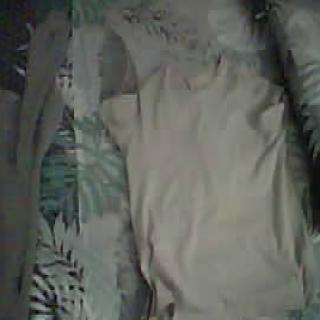Yellow Hoodie: (0, 3, 61, 320)
Yellow T-Shirt: (100, 50, 320, 320)
